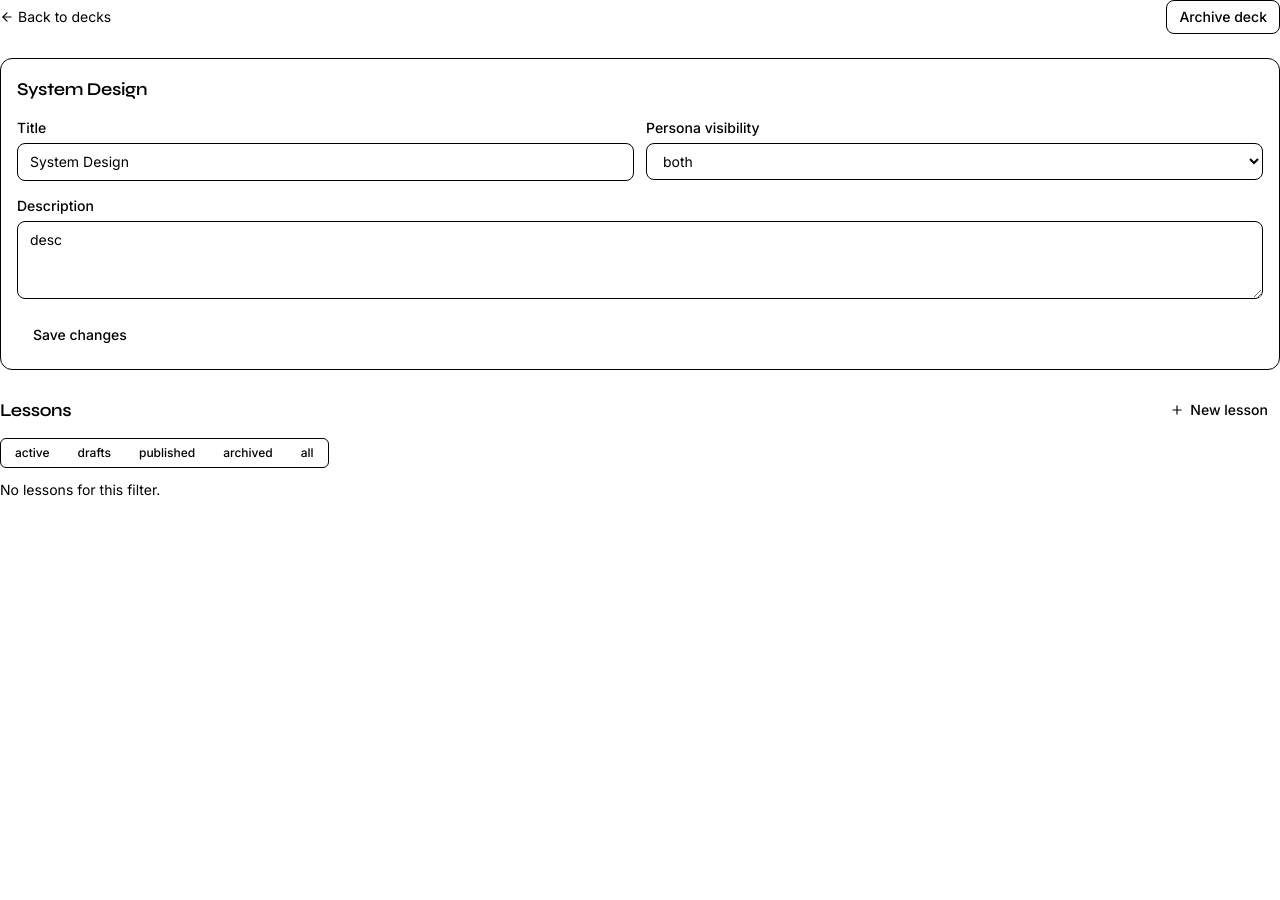
it: AdminDeckDetail (slice 6.4b) › narrowing persona_visibility opens the ConfirmPersonaNarrowingModal
Expected: the form with test id "admin-deck-detail-form" is shown, [0, 58, 1279, 370]
Step 1. Select "climber" in the dropdown with test id "admin-deck-detail-persona" → (954, 162), box [646, 143, 1263, 180]
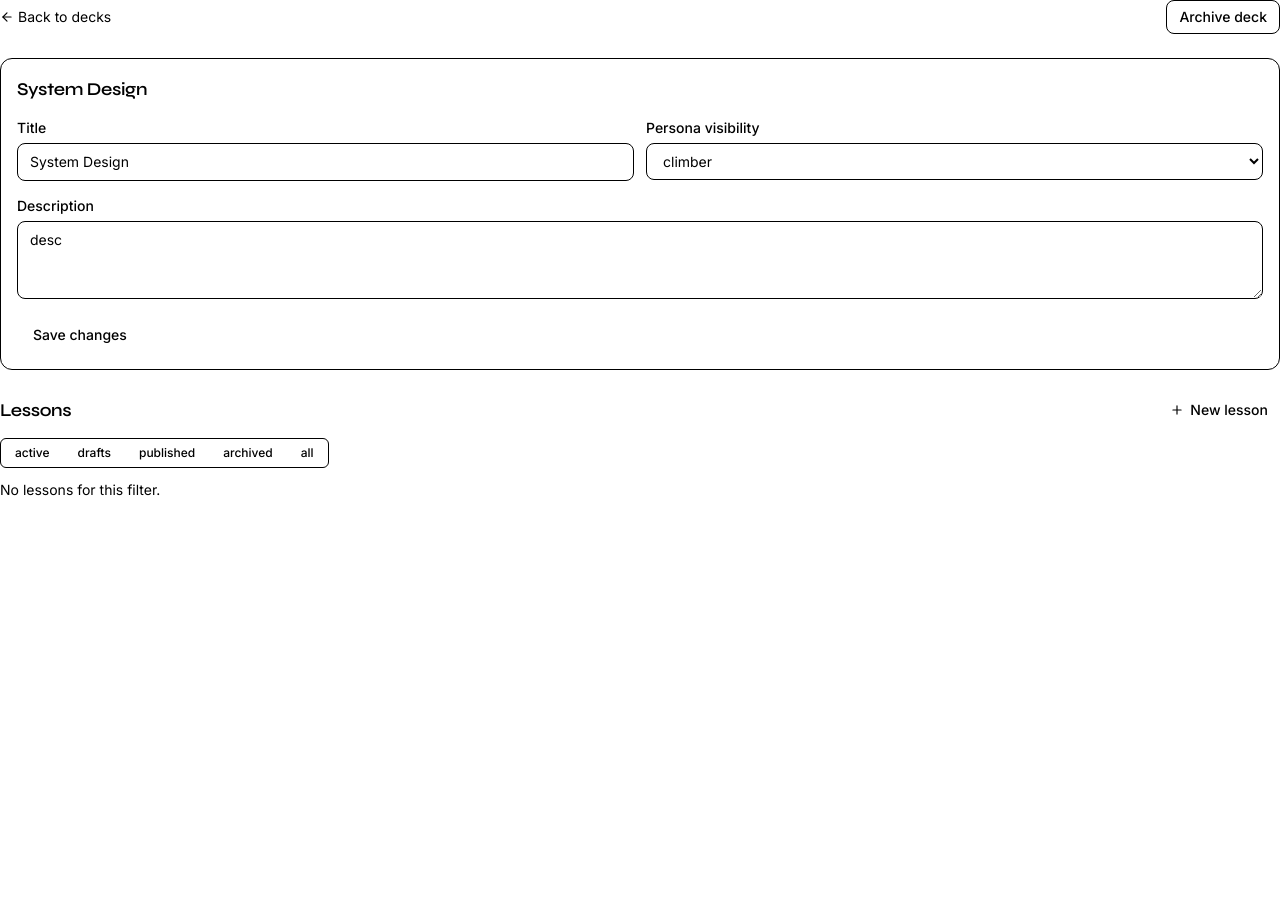
Step 2. Click the button with test id "admin-deck-detail-save" → (80, 335), box [17, 317, 143, 353]
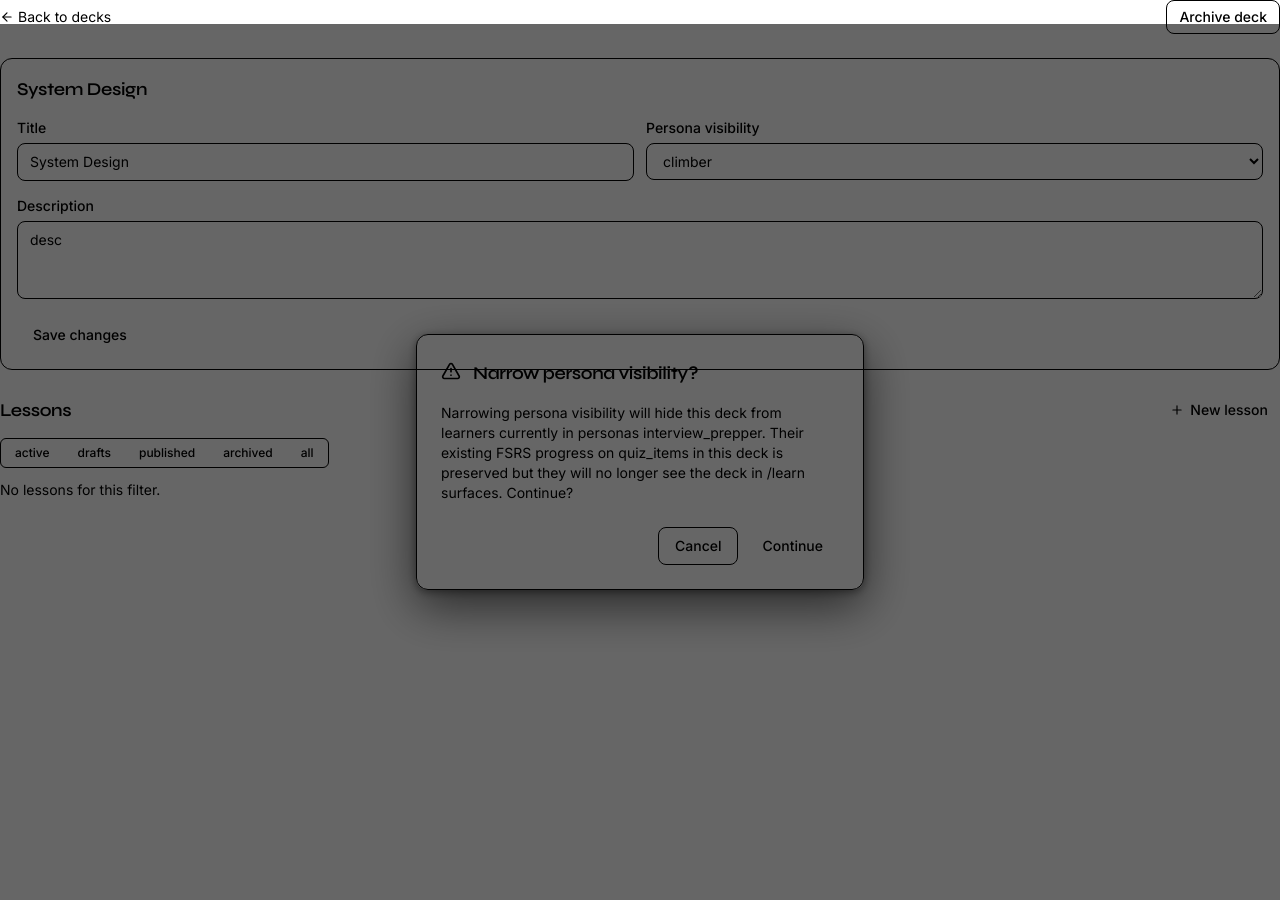
Expected: the dialog with test id "confirm-persona-narrow-modal" is shown
Expected: the text with test id "confirm-persona-narrow-copy" shows "interview_prepper", [643, 424, 762, 441]
